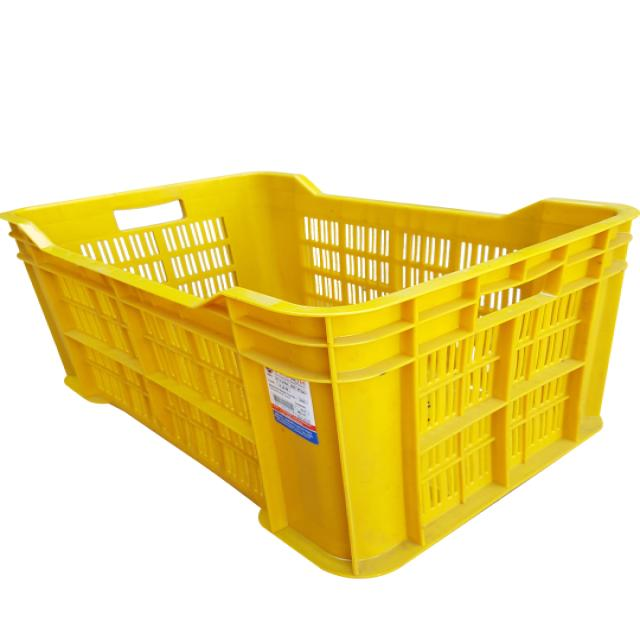basket: (0, 149, 639, 601)
